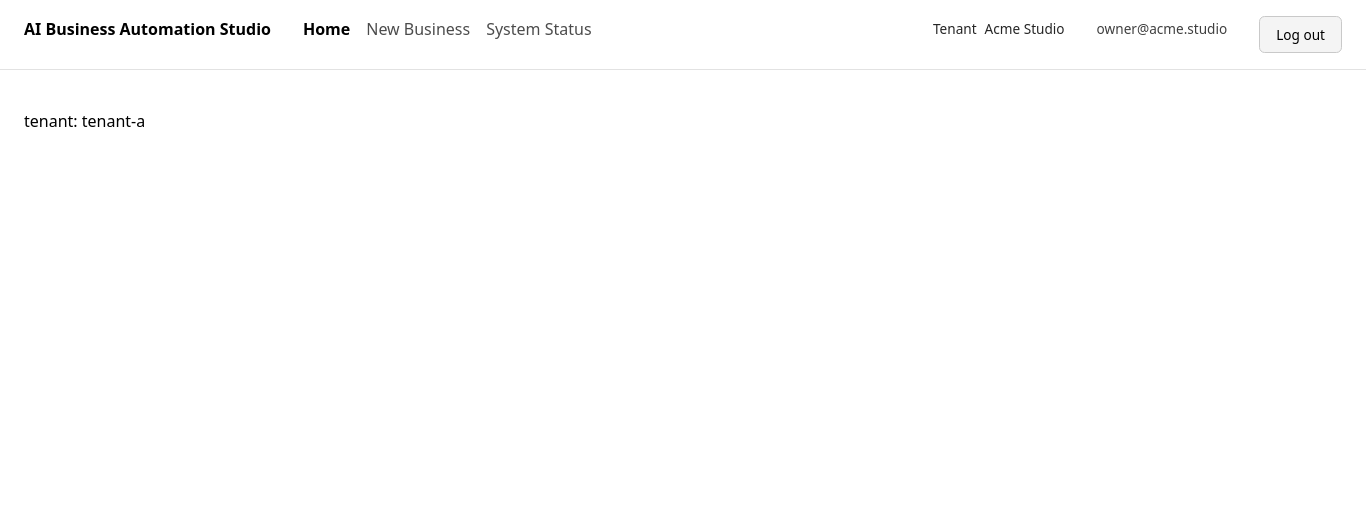
Test: AppShell › logs out and returns to the login screen
The width and height of the screenshot is (1366, 514).
Expected: the text "tenant: tenant-a" is shown, [24, 110, 145, 132]
Click the button "Log out" at (1301, 34), box [1259, 16, 1342, 53]
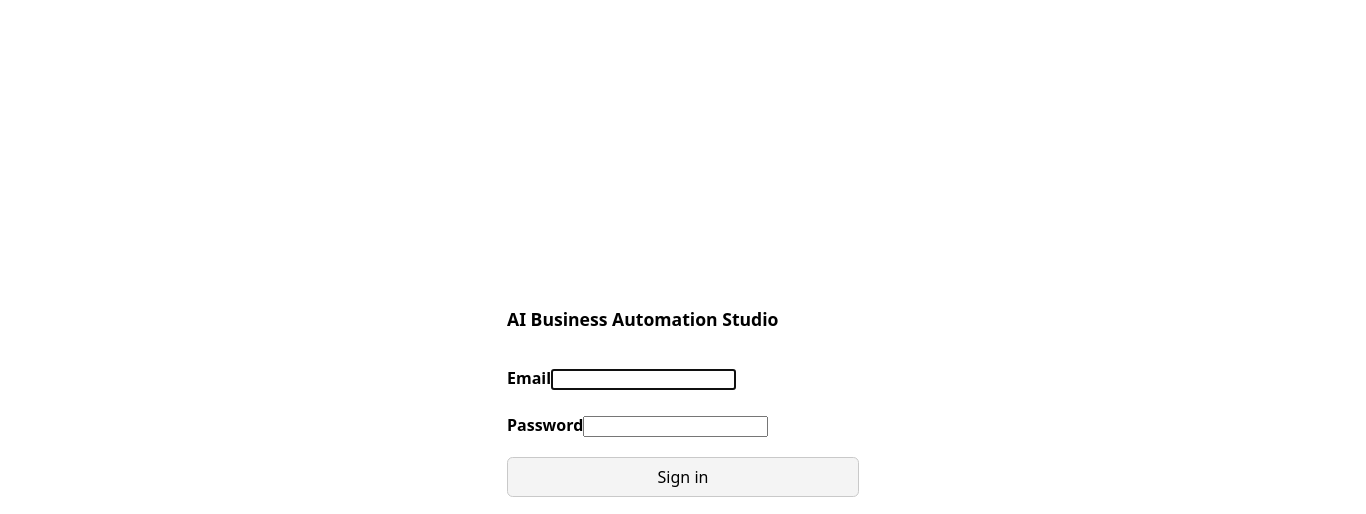
Now the field labelled "Email" is shown, box [551, 369, 736, 390]
